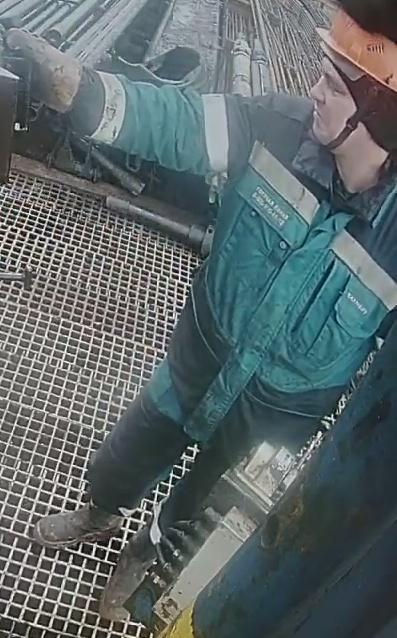gloves: (2, 28, 107, 116)
helmet: (314, 0, 397, 93)
vest: (151, 92, 396, 444)
